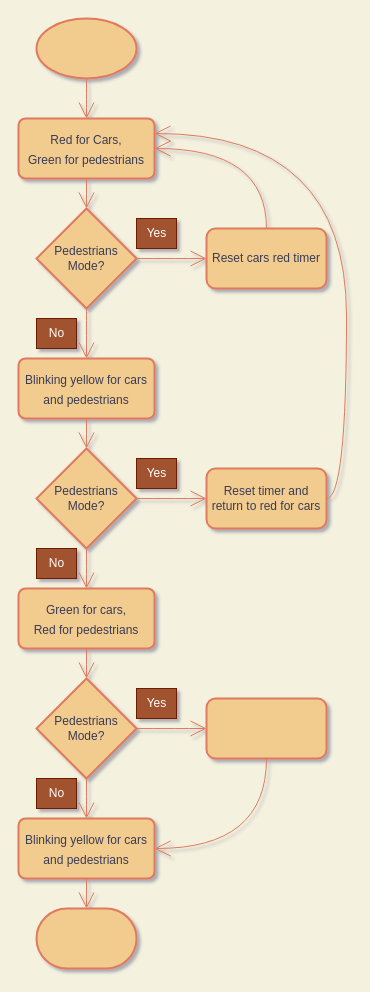
Image size: 370x992. Some labels were removed from this diagram. The centre of each missing label's shape, as x and y in pixels:
"End" belongs at (x=86, y=938).
"Move immediately to yellow blinking" belongs at (x=266, y=728).
"Start" belongs at (x=86, y=48).
